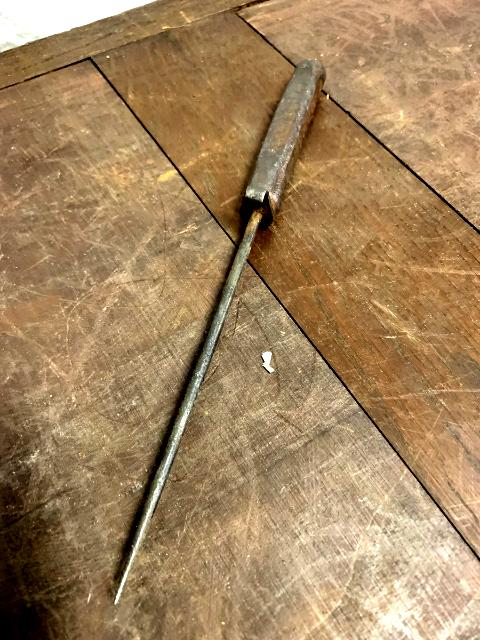ice pick: (113, 59, 329, 607)
